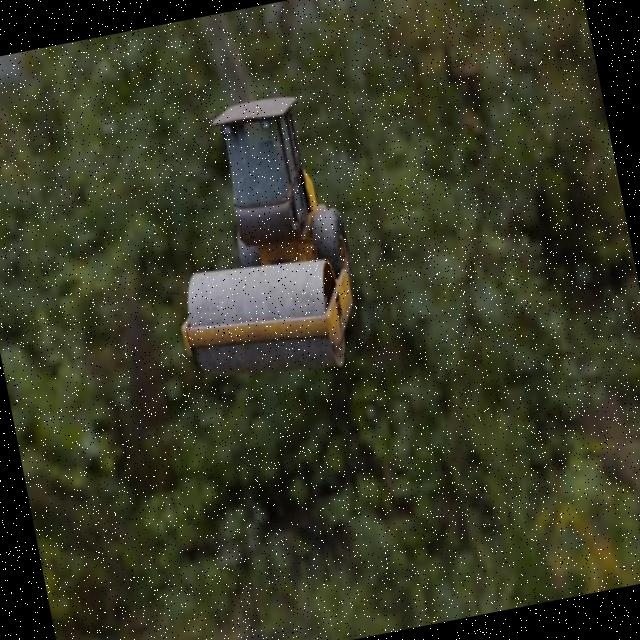Roller: (140, 87, 372, 396)
